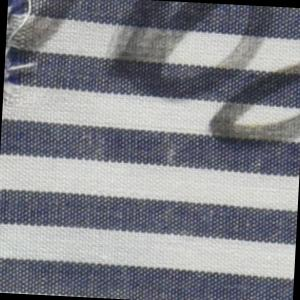Damage: (3, 1, 38, 107)
Stain: (95, 1, 300, 150), (16, 1, 78, 74)
